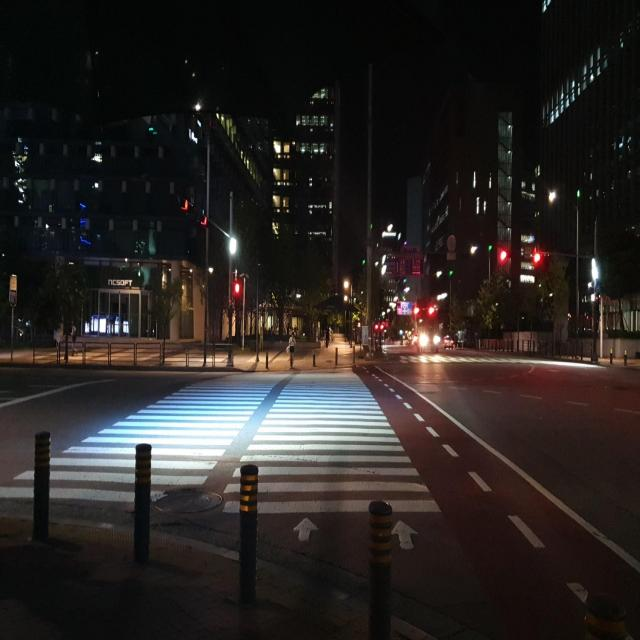횡단보도: (0, 372, 440, 551)
